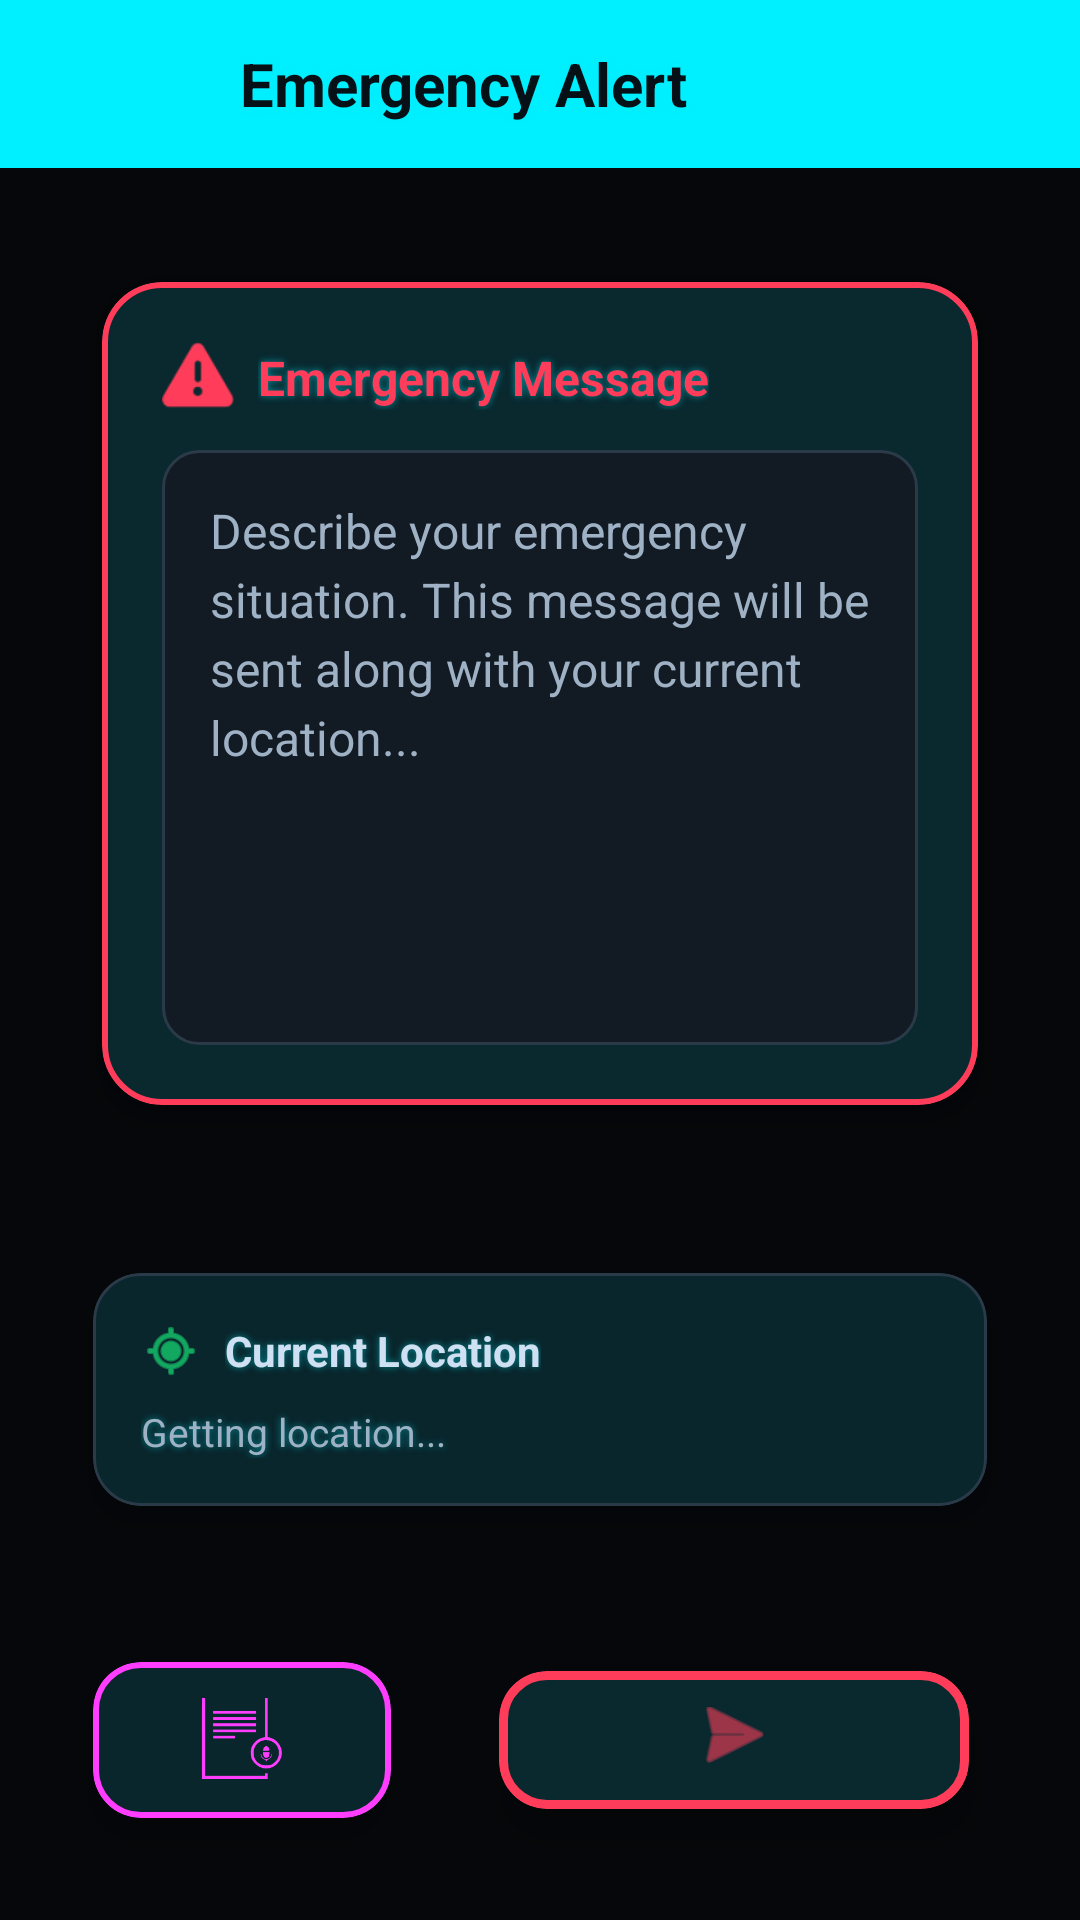

Point at icon controls on the screen. Image size 1080x1920, points as (x,y).
alert: (198,375)
mylocation: (171,1351)
send: (735,1735)
